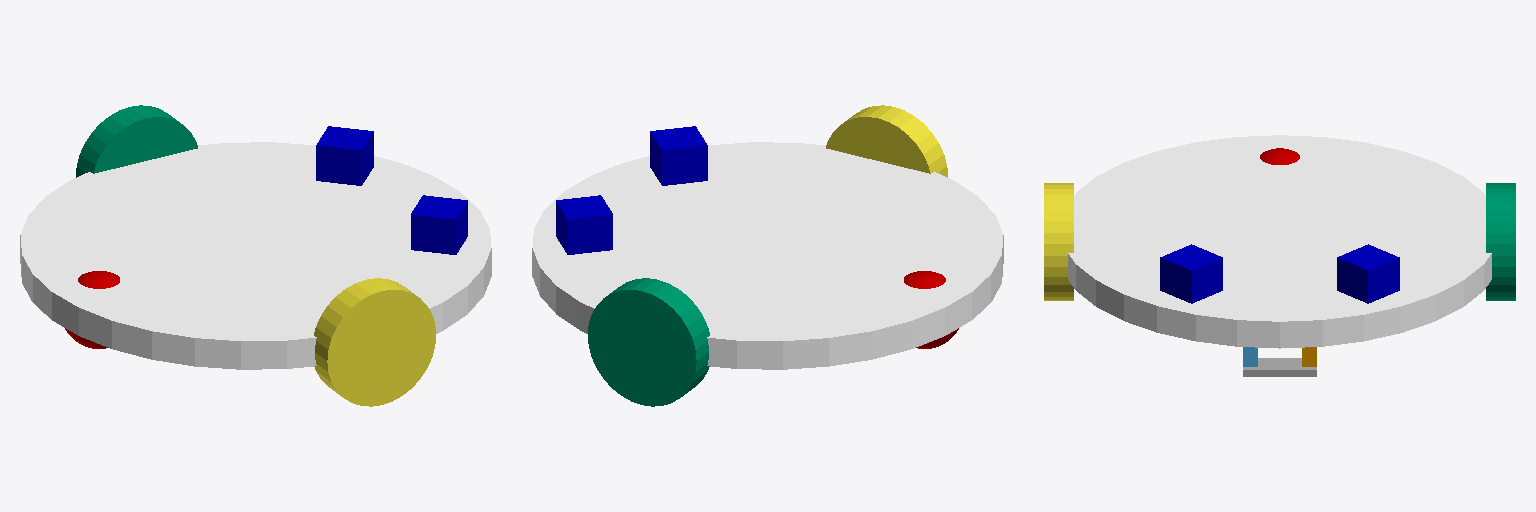
URDF robot description (texbot):
<?xml version="1.0" ?>
<robot name="texbot" xmlns:xacro="http://www.ros.org/wiki/xacro">
  <!-- Wheels -->
  <!-- in kg-->
  <!-- Defining the colors used in this robot -->
  <material name="Black">
    <color rgba="0.0 0.0 0.0 1.0"/>
  </material>
  <material name="Red">
    <color rgba="0.8 0.0 0.0 1.0"/>
  </material>
  <material name="White">
    <color rgba="1.0 1.0 1.0 1.0"/>
  </material>
  <material name="Blue">
    <color rgba="0.0 0.0 0.8 1.0"/>
  </material>
  <!-- PROPERTY LIST -->
  <!--All units in m-kg-s-radians unit system -->
  <!-- Main body radius and height -->
  <!-- Main Body Cylinder base   -->
  <!-- in kg-->
  <!-- caster wheel radius and height -->
  <!-- caster wheel mass -->
  <!-- in kg-->
  <!-- caster wheel radius and height -->
  <!-- caster wheel mass -->
  <!-- in kg-->
  <!-- Wheels -->
   --&gt; 
  <!-- in kg-->
  <!-- Hokuyo Laser scanner -->
  <!-- Macro for calculating inertia of cylinder -->
  <!-- BASE-FOOTPRINT -->
  <!-- base_footprint is a fictitious link(frame) that is on the ground right below base_link origin -->
  <link name="base_footprint">
    <inertial>
      <mass value="0.0001"/>
      <origin xyz="0 0 0"/>
      <inertia ixx="0.0001" ixy="0.0" ixz="0.0" iyy="0.0001" iyz="0.0" izz="0.0001"/>
    </inertial>
    <visual>
      <origin rpy="0 0 0" xyz="0 0 0"/>
      <geometry>
        <box size="0.001 0.001 0.001"/>
      </geometry>
    </visual>
  </link>
  <gazebo reference="base_footprint">
    <turnGravityOff>false</turnGravityOff>
  </gazebo>
  <joint name="base_footprint_joint" type="fixed">
    <origin rpy="0 0 0" xyz="0 0 0.04"/>
    <parent link="base_footprint"/>
    <child link="base_link"/>
  </joint>
  <!-- BASE-LINK -->
  <!--Actual body/chassis of the robot-->
  <link name="base_link">
    <inertial>
      <mass value="5"/>
      <origin xyz="0 0 0"/>
      <!--The 3x3 rotational inertia matrix. -->
      <inertia ixx="0.0282916666667" ixy="0" ixz="0" iyy="0.0282916666667" iyz="0" izz="0.05625"/>
    </inertial>
    <visual>
      <origin rpy="0 0 0" xyz="0 0 0"/>
      <geometry>
        <cylinder length="0.02" radius="0.15"/>
      </geometry>
      <material name="White"/>
    </visual>
    <collision>
      <origin rpy="0 0 0 " xyz="0 0 0"/>
      <geometry>
        <cylinder length="0.02" radius="0.15"/>
      </geometry>
    </collision>
  </link>
  <gazebo reference="base_link">
    <material>Gazebo/White</material>
    <turnGravityOff>false</turnGravityOff>
  </gazebo>
  <!--fb : front, back ; lr: left, right -->
  <link name="front_right_wheel">
    <visual>
      <origin rpy="1.57079632679 0  0 " xyz="0 0 0"/>
      <geometry>
        <cylinder length="0.02" radius="0.04"/>
      </geometry>
      <material name="DarkGray"/>
    </visual>
    <collision>
      <origin rpy="1.57079632679 0 0 " xyz="0 0 0"/>
      <geometry>
        <cylinder length="0.02" radius="0.04"/>
      </geometry>
    </collision>
    <inertial>
      <mass value="2.5"/>
      <origin xyz="0 0 0"/>
      <inertia ixx="0.00108333333333" ixy="0" ixz="0" iyy="0.00108333333333" iyz="0" izz="0.002"/>
    </inertial>
  </link>
  <gazebo reference="front_right_wheel">
    <mu1 value="1.0"/>
    <mu2 value="1.0"/>
    <kp value="10000000.0"/>
    <kd value="1.0"/>
    <fdir1 value="1 0 0"/>
    <material>Gazebo/Grey</material>
    <turnGravityOff>false</turnGravityOff>
  </gazebo>
  <joint name="front_right_wheel_joint" type="continuous">
    <parent link="base_link"/>
    <child link="front_right_wheel"/>
    <origin rpy="0 0 0" xyz="0.0 0.15 0.0"/>
    <axis rpy="0  0" xyz="0 1 0"/>
    <limit effort="100" velocity="100"/>
    <joint_properties damping="0.0" friction="0.0"/>
  </joint>
  <!-- Transmission is important to link the joints and the controller -->
  <transmission name="front_right_wheel_joint_trans">
    <type>transmission_interface/SimpleTransmission</type>
    <joint name="front_right_wheel_joint"/>
    <actuator name="front_right_wheel_joint_motor">
      <hardwareInterface>EffortJointInterface</hardwareInterface>
      <mechanicalReduction>1</mechanicalReduction>
    </actuator>
  </transmission>
  <!--fb : front, back ; lr: left, right -->
  <link name="front_left_wheel">
    <visual>
      <origin rpy="1.57079632679 0  0 " xyz="0 0 0"/>
      <geometry>
        <cylinder length="0.02" radius="0.04"/>
      </geometry>
      <material name="DarkGray"/>
    </visual>
    <collision>
      <origin rpy="1.57079632679 0 0 " xyz="0 0 0"/>
      <geometry>
        <cylinder length="0.02" radius="0.04"/>
      </geometry>
    </collision>
    <inertial>
      <mass value="2.5"/>
      <origin xyz="0 0 0"/>
      <inertia ixx="0.00108333333333" ixy="0" ixz="0" iyy="0.00108333333333" iyz="0" izz="0.002"/>
    </inertial>
  </link>
  <gazebo reference="front_left_wheel">
    <mu1 value="1.0"/>
    <mu2 value="1.0"/>
    <kp value="10000000.0"/>
    <kd value="1.0"/>
    <fdir1 value="1 0 0"/>
    <material>Gazebo/Grey</material>
    <turnGravityOff>false</turnGravityOff>
  </gazebo>
  <joint name="front_left_wheel_joint" type="continuous">
    <parent link="base_link"/>
    <child link="front_left_wheel"/>
    <origin rpy="0 0 0" xyz="0.0 -0.15 0.0"/>
    <axis rpy="0  0" xyz="0 1 0"/>
    <limit effort="100" velocity="100"/>
    <joint_properties damping="0.0" friction="0.0"/>
  </joint>
  <!-- Transmission is important to link the joints and the controller -->
  <transmission name="front_left_wheel_joint_trans">
    <type>transmission_interface/SimpleTransmission</type>
    <joint name="front_left_wheel_joint"/>
    <actuator name="front_left_wheel_joint_motor">
      <hardwareInterface>EffortJointInterface</hardwareInterface>
      <mechanicalReduction>1</mechanicalReduction>
    </actuator>
  </transmission>
  <!--Caster front  -->
  <!--
  <link name="caster_front_link">
    <visual>
      <origin rpy="1.57079632679 0 0" xyz="0 0.02 0"/>
      <geometry>
        <sphere radius="0.025"/>
      </geometry>
      <material name="Blue"/>
    </visual>
    <collision>
      <geometry>
        <sphere radius="0.025"/>
      </geometry>
      <origin rpy="1.57079632679 0 0" xyz="0 0.02 0"/>
    </collision>
    <inertial>
      <mass value="0.5"/>
      <origin xyz="0 0 0"/>
      <inertia ixx="0.001" ixy="0.0" ixz="0.0" iyy="0.001" iyz="0.0" izz="0.001"/>
    </inertial>
  </link>
  <joint name="caster_front_joint" type="fixed">
    <parent link="base_link"/>
    <child link="caster_front_link"/>
    <origin rpy="-1.57079632679 0 0" xyz="0.115 0.0 0.007"/>
  </joint>
  <gazebo reference="caster_front_link">
    <turnGravityOff>false</turnGravityOff>
  </gazebo>
  -->
  
  <!--Caster back  -->
  <link name="caster_back_link">
    <visual>
      <origin rpy="1.57079632679 0 0" xyz="0.02 0.02 0 "/>
      <geometry>
        <sphere radius="0.025"/>
      </geometry>
      <material name="Red"/>
    </visual>
    <collision>
      <geometry>
        <sphere radius="0.025"/>
      </geometry>
      <origin rpy="1.57079632679 0 0" xyz="0 0.02 0 "/>
    </collision>
    <inertial>
      <mass value="0.9"/>
      <origin xyz="0 0 0"/>
      <inertia ixx="0.001" ixy="0.0" ixz="0.0" iyy="0.001" iyz="0.0" izz="0.001"/>
    </inertial>
  </link>
  <joint name="caster_back_joint" type="fixed">
    <parent link="base_link"/>
    <child link="caster_back_link"/>
    <origin rpy="-1.57079632679 0 0" xyz="-0.135 0.0 0.009"/>
  </joint>
  <gazebo reference="caster_back_link">
    <turnGravityOff>false</turnGravityOff>
  </gazebo>

  <!-- SENSORS -->
  <!-- hokuyo -->
  <link name="hokuyo_link">
    <visual>
      <origin rpy="0 0 0.785398" xyz="-0.025 -0.06 0"/>
      <geometry>
        <box size="0.03 0.03 0.03"/>
      </geometry>
      <material name="Blue"/>
    </visual>
  </link>
  <joint name="hokuyo_joint" type="fixed">
    <origin rpy="0 0 0" xyz="0.125 0 0.02"/>
    <parent link="base_link"/>
    <child link="hokuyo_link"/>
  </joint>
  <gazebo reference="hokuyo_link">
    <material>Gazebo/Blue</material>
    <turnGravityOff>false</turnGravityOff>
    <sensor name="head_hokuyo_sensor" type="ray">
      <pose>0.025 0 0 0 0 0</pose>
      <visualize>false</visualize>
      <update_rate>40</update_rate>
      <ray>
        <scan>
          <horizontal>
            <samples>720</samples>
            <resolution>1</resolution>
            <min_angle>-0.785398</min_angle>
            <max_angle>0.785398</max_angle>
          </horizontal>
        </scan>
        <range>
          <min>0.10</min>
          <max>10.0</max>
          <resolution>0.001</resolution>
        </range>
      </ray>
      <plugin filename="libgazebo_ros_laser.so" name="gazebo_ros_head_hokuyo_controller">
        <topicName>/scan</topicName>
        <frameName>hokuyo_link</frameName>
      </plugin>
    </sensor>
  </gazebo>
  <link name="obstacle_detector_2">
    <visual>
      <origin rpy="0 0 0.785398" xyz="0.1 0.06 0"/>
      <geometry>
        <box size="0.03 0.03 0.03"/>
      </geometry>
      <material name="Blue"/>
    </visual>
  </link>
  <joint name="obstacle_detector_2" type="fixed">
    <parent link="base_link"/>
    <child link="obstacle_detector_2"/>
    <origin rpy="0 0 0" xyz="0 0 0.02"/>
  </joint>
  <gazebo reference="obstacle_detector_2">
    <material>Gazebo/Blue</material>
    <turnGravityOff>false</turnGravityOff>
  </gazebo>

  <!-- Camera 1-->
  <link name="camera_1_link">
    <collision>
      <origin xyz="0 0 0" rpy="0 0 0"/>
      <geometry>
    <box size="0.005 0.05 0.02"/>
      </geometry>
    </collision>
    <visual>
      <origin xyz="0 0 0" rpy="0 0 0"/>
      <geometry>
    <box size="0.005 0.05 0.02"/>
      </geometry>
      <material name="red"/>
    </visual>
    <inertial>
      <mass value="0.001" />
      <origin xyz="0 0 0" rpy="0 0 0"/>
      <inertia ixx="1e-6" ixy="0" ixz="0" iyy="1e-6" iyz="0" izz="1e-6" />
    </inertial>
  </link>
  <joint name="camera_1_joint" type="fixed">
    <axis xyz="0 1 0" />
    <origin xyz="0.135 0.0 -0.031" rpy="0 1.57079632679 0"/>
    <parent link="camera_bar_1_link"/>
    <child link="camera_1_link"/>
  </joint>
  <gazebo reference="camera_1_link">
    <sensor type="camera" name="camera1">
      <update_rate>30.0</update_rate>
      <camera name="head">
        <horizontal_fov>2.9</horizontal_fov>
        <image>
          <width>800</width>
          <height>800</height>
          <format>R8G8B8</format>
        </image>
        <clip>
          <near>0.001</near>
          <far>300</far>
        </clip>
        <noise>
          <type>gaussian</type>
          <mean>0.0</mean>
          <stddev>0.007</stddev>
        </noise>
      </camera>
      <plugin name="camera_controller" filename="libgazebo_ros_camera.so">
        <alwaysOn>true</alwaysOn>
        <updateRate>0.0</updateRate>
        <cameraName>/texbot/camera1</cameraName>
        <imageTopicName>image_raw</imageTopicName>
        <cameraInfoTopicName>camera_info</cameraInfoTopicName>
        <frameName>camera_1_link</frameName>
        <hackBaseline>0.07</hackBaseline>
        <distortionK1>0.0</distortionK1>
        <distortionK2>0.0</distortionK2>
        <distortionK3>0.0</distortionK3>
        <distortionT1>0.0</distortionT1>
        <distortionT2>0.0</distortionT2>
      </plugin>
    </sensor>
  </gazebo>
  <link name="camera_bar_1_link">
    <visual>
      <origin rpy="0 0 0" xyz="0.135 0.02 -0.0225"/>
      <geometry>
        <box size="0.01 0.01 0.02"/>
      </geometry>
    </visual>
  </link>
  <joint name="camera_bar_1_joint" type="fixed">
    <parent link="base_link"/>
    <child link="camera_bar_1_link"/>
    <origin rpy="0 0 0" xyz="0 0 0"/>
  </joint>
  <gazebo reference="camera_bar_1_link">
    <turnGravityOff>false</turnGravityOff>
  </gazebo>
  <link name="camera_bar_2_link">
    <visual>
      <origin rpy="0 0 0" xyz="0.135 -0.02 -0.0225"/>
      <geometry>
        <box size="0.01 0.01 0.02"/>
      </geometry>
    </visual>
  </link>
  <joint name="camera_bar_2_joint" type="fixed">
    <parent link="base_link"/>
    <child link="camera_bar_2_link"/>
    <origin rpy="0 0 0" xyz="0 0 0"/>
  </joint>
  <gazebo reference="camera_bar_2_link">
    <turnGravityOff>false</turnGravityOff>
  </gazebo>

<!--LED Plugin-->
  <gazebo>
    <link name='led_1_link'>
      <pose>0.04 -0.03 0.05 0 0 0</pose>
      <light name='lamp' type='spot'>
        <pose>0 0 0.0 0 3.14159 0</pose>
        <attenuation>
          <range>30</range>
          <linear>0.05</linear>
        </attenuation>
        <diffuse>0.5 1 1 1</diffuse>
        <specular>1 1 1 1</specular>
        <spot>
          <inner_angle>0.3</inner_angle>
          <outer_angle>0.35</outer_angle>
          <falloff>1</falloff>
        </spot>
        <direction>0 0 -1</direction>
      </light>
      <visual name='lamp'>
        <geometry>
          <sphere>
            <radius>0.015</radius>
          </sphere>
        </geometry>
        <transparency>0.3</transparency>
        <material>
          <ambient>0.2 0.9 0.1 1</ambient>
          <diffuse>0.2 0.9 0.1 1</diffuse>
          <specular>0.2 0.9 0.1 1</specular>
          <emissive>0.2 0.9 0.1 1</emissive>
        </material>
      </visual>
    </link>
    <joint name='led_1_joint' type='fixed'>
      <parent>base_link</parent>
      <child>led_1_link</child>
      </joint>
    <plugin name='light_control' filename='libLedRosControl.so'>
      <enable>true</enable>
      <light>
        <id>led_1_link/lamp</id>
        <duration>0.5</duration>
        <interval>0.5</interval>
        <enable>true</enable>
      </light>
    </plugin>
  </gazebo>

  <gazebo>
    <link name='led_2_link'>
      <pose>0.04 0.03 0.05 0 0 0</pose>
      <light name='lamp' type='spot'>
        <pose>0 0 0.0 0 3.14159 0</pose>
        <attenuation>
          <range>30</range>
          <linear>0.05</linear>
        </attenuation>
        <diffuse>0.5 1 1 1</diffuse>
        <specular>1 1 1 1</specular>
        <spot>
          <inner_angle>0.3</inner_angle>
          <outer_angle>0.35</outer_angle>
          <falloff>1</falloff>
        </spot>
        <direction>0 0 -1</direction>
      </light>
      <visual name='lamp'>
        <geometry>
          <sphere>
            <radius>0.015</radius>
          </sphere>
        </geometry>
        <transparency>0.3</transparency>
        <material>
          <ambient>0.2 0.9 0.1 1</ambient>
          <diffuse>0.2 0.9 0.1 1</diffuse>
          <specular>0.2 0.9 0.1 1</specular>
          <emissive>0.2 0.9 0.1 1</emissive>
        </material>
      </visual>
    </link>
    <joint name='led_2_joint' type='fixed'>
      <parent>base_link</parent>
      <child>led_2_link</child>
      </joint>
    <plugin name='light_control' filename='libLedRosControl.so'>
      <enable>true</enable>
      <light>
        <id>led_2_link/lamp</id>
        <duration>0.5</duration>
        <interval>0.5</interval>
        <enable>true</enable>
      </light>
    </plugin>
  </gazebo>
    

<!-- Differential drive controller  -->
  <gazebo>
    <plugin filename="libgazebo_ros_diff_drive.so" name="differential_drive_controller_front">
      <rosDebugLevel>Debug</rosDebugLevel>
      <publishWheelTF>True</publishWheelTF>
      <publishTf>1</publishTf>
      <publishWheelJointState>true</publishWheelJointState>
      <alwaysOn>true</alwaysOn>
      <updateRate>100.0</updateRate>
      <leftJoint>front_left_wheel_joint</leftJoint>
      <rightJoint>front_right_wheel_joint</rightJoint>
      <wheelSeparation>0.3</wheelSeparation>
      <wheelDiameter>0.08</wheelDiameter>
      <broadcastTF>1</broadcastTF>
      <wheelTorque>30</wheelTorque>
      <wheelAcceleration>1.2</wheelAcceleration>
      <commandTopic>cmd_vel</commandTopic>
      <odometryFrame>odom</odometryFrame>
      <odometryTopic>odom</odometryTopic>
      <robotBaseFrame>base_link</robotBaseFrame>
      <legacyMode>True</legacyMode>
    </plugin>
  </gazebo>
  <!--
	  <gazebo>
	    <plugin name="kobuki_controller" filename="libgazebo_ros_kobuki.so">
	      <publish_tf>1</publish_tf>
	      <left_wheel_joint_name>front_left_wheel_joint</left_wheel_joint_name>
	      <right_wheel_joint_name>front_right_wheel_joint</right_wheel_joint_name>
	      <wheel_separation>.30</wheel_separation>
	      <wheel_diameter>0.08</wheel_diameter>
	      <torque>30.0</torque>
	      <velocity_command_timeout>0.6</velocity_command_timeout>
	    </plugin>
	  </gazebo>
-->
</robot>

--- What the picture shows (computed from the rendered views, not written in the file) ---
Views: 3 orthographic renders of the robot side by side, from view 1: azimuth 30°, elevation 25°; view 2: azimuth 150°, elevation 25°; view 3: azimuth 270°, elevation 25°.
Robot: texbot — 10 links, 9 joints (2 continuous, 7 fixed); root link base_footprint; default pose: every joint at zero.
Links seen in each view (by area): view 1: base_link, front_left_wheel, front_right_wheel, obstacle_detector_2, hokuyo_link, caster_back_link; view 2: base_link, front_right_wheel, front_left_wheel, hokuyo_link, obstacle_detector_2, caster_back_link; view 3: base_link, front_right_wheel, front_left_wheel, hokuyo_link, obstacle_detector_2, camera_1_link, caster_back_link.
Link boxes in pixels (<box>): base_link: <box>20,142,491,369</box>; front_left_wheel: <box>314,278,435,406</box>; front_right_wheel: <box>76,105,197,177</box>; obstacle_detector_2: <box>316,126,373,185</box>; hokuyo_link: <box>411,195,467,254</box>; caster_back_link: <box>65,271,119,348</box>; base_link: <box>532,142,1003,369</box>; front_right_wheel: <box>588,278,709,406</box>; front_left_wheel: <box>826,105,947,177</box>; hokuyo_link: <box>650,126,707,185</box>; obstacle_detector_2: <box>556,195,612,254</box>; caster_back_link: <box>904,271,958,348</box>; base_link: <box>1068,135,1491,348</box>; front_right_wheel: <box>1486,183,1515,300</box>; front_left_wheel: <box>1044,183,1073,300</box>; hokuyo_link: <box>1160,244,1222,303</box>; obstacle_detector_2: <box>1337,244,1399,303</box>; camera_1_link: <box>1243,358,1316,376</box>; caster_back_link: <box>1260,148,1299,164</box>.
Size in the robot's own frame: 0.3 by 0.32 by 0.0805 metres.
Geometry: primitives only (box / cylinder / sphere), no mesh files.
